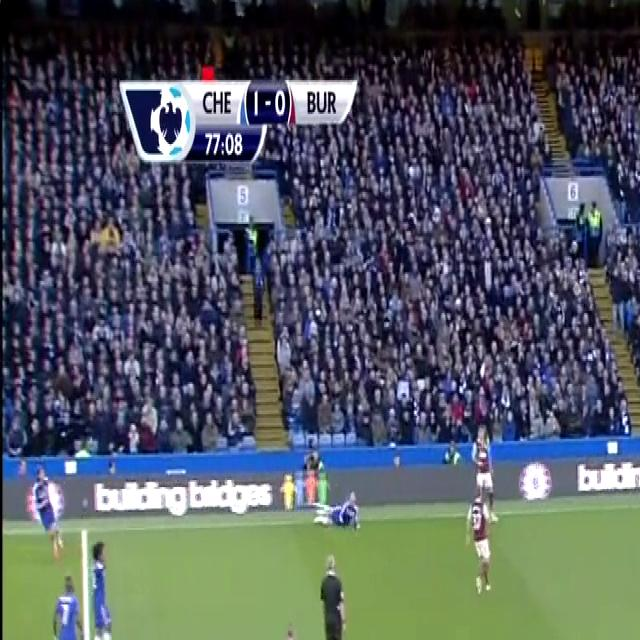referee: (314, 544, 356, 640)
soccer-player: (466, 486, 502, 603), (86, 530, 124, 640), (34, 459, 69, 567), (471, 419, 502, 527), (48, 569, 92, 640), (312, 481, 368, 535), (269, 618, 314, 640)
